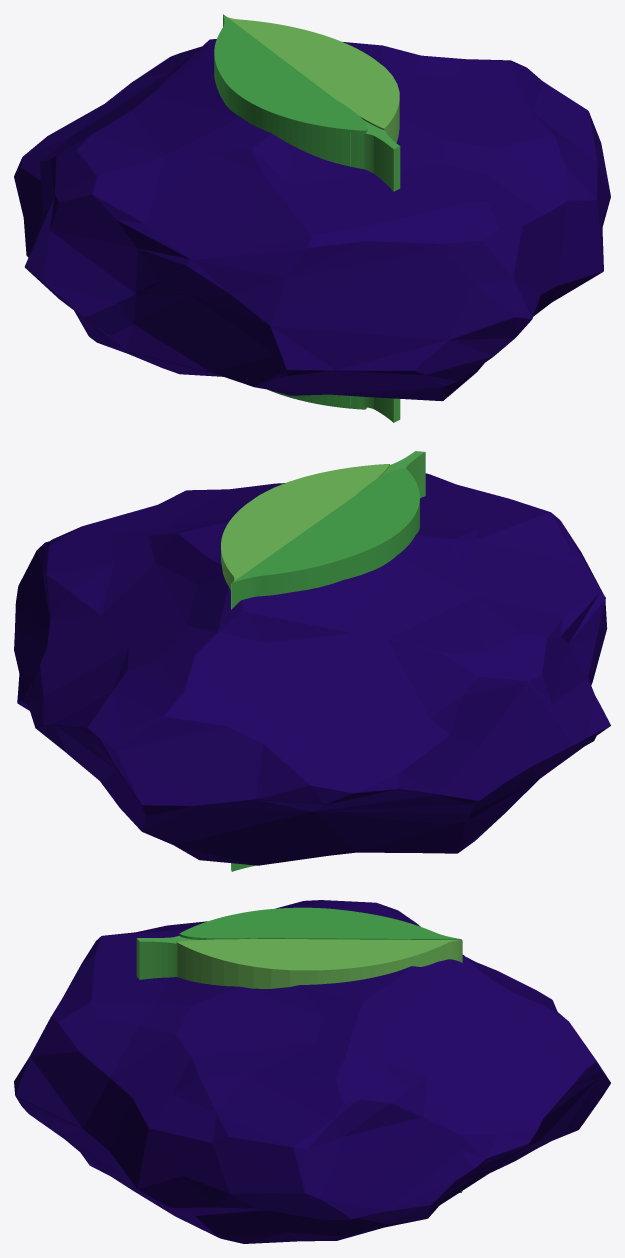
Rendered from mongo.glb.
3 renders of one model, top to bottom at view 1: azimuth 30°, elevation 25°; view 2: azimuth 150°, elevation 25°; view 3: azimuth 270°, elevation 25°, orthographic. The views are drawn at different scales.
Visible parts, largest first — view 1: Cube.007, Curve.001, Curve.002, Curve; view 2: Cube.007, Curve.001, Curve.002, Curve; view 3: Cube.007, Curve.002, Curve.001, Curve.
Part boxes in pixels (left/top/right/bottom): Cube.007: left=14, top=39, right=610, bottom=401; Curve.001: left=214, top=14, right=367, bottom=409; Curve.002: left=227, top=17, right=399, bottom=142; Curve: left=349, top=120, right=400, bottom=422; Cube.007: left=14, top=473, right=610, bottom=865; Curve.001: left=231, top=468, right=419, bottom=871; Curve.002: left=221, top=464, right=389, bottom=870; Curve: left=382, top=451, right=425, bottom=498; Cube.007: left=14, top=900, right=610, bottom=1243; Curve.002: left=176, top=938, right=462, bottom=1191; Curve.001: left=179, top=907, right=461, bottom=1192; Curve: left=136, top=936, right=198, bottom=979.
Bounding box in the file's own units: 2 × 0.9562 × 2.04.
